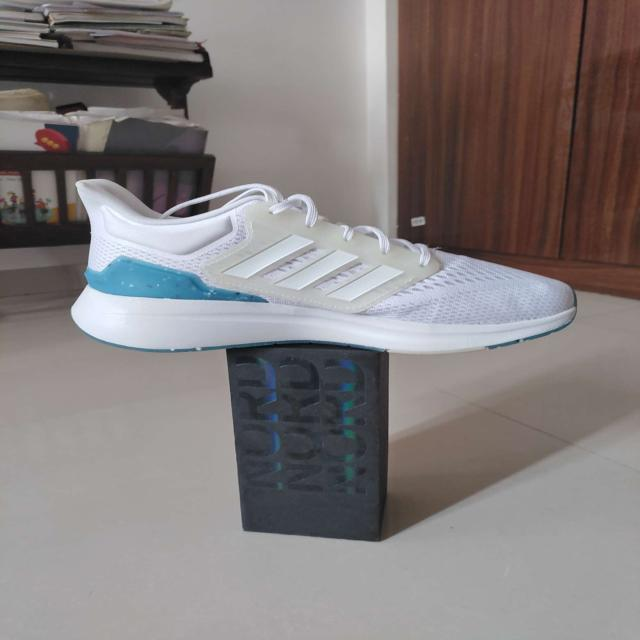shoe: (67, 178, 578, 354)
